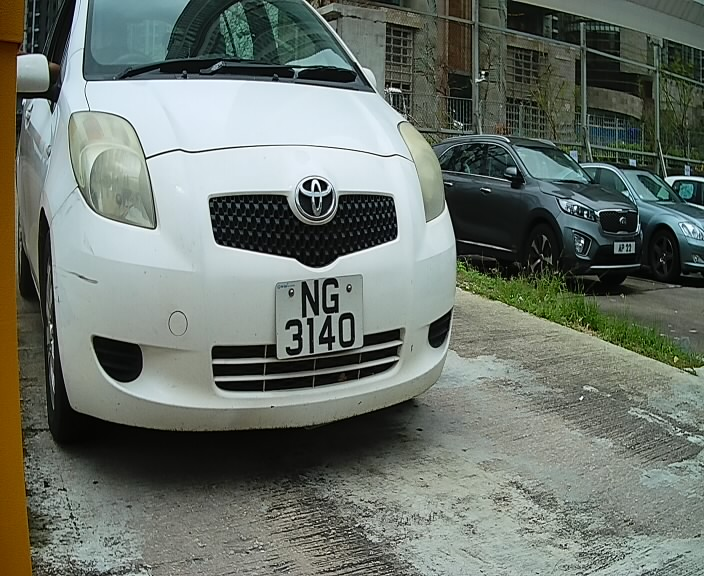Car: (2, 2, 464, 470)
License Plate: (268, 269, 374, 368)
